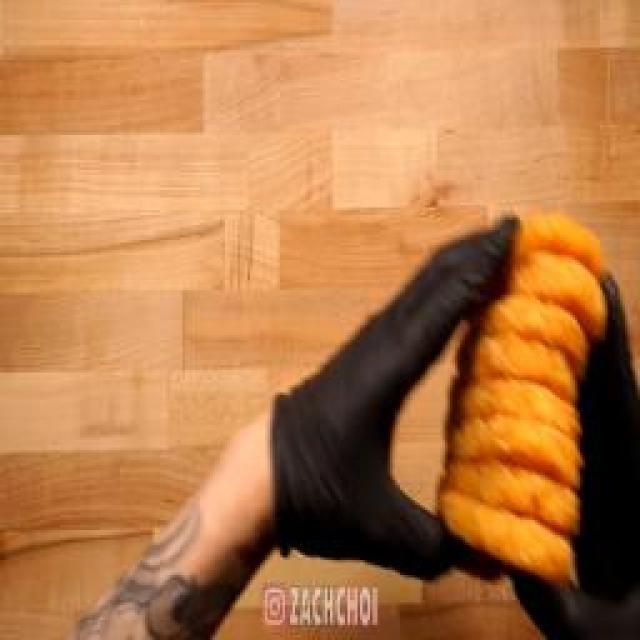Hashbrown: (433, 177, 618, 595)
